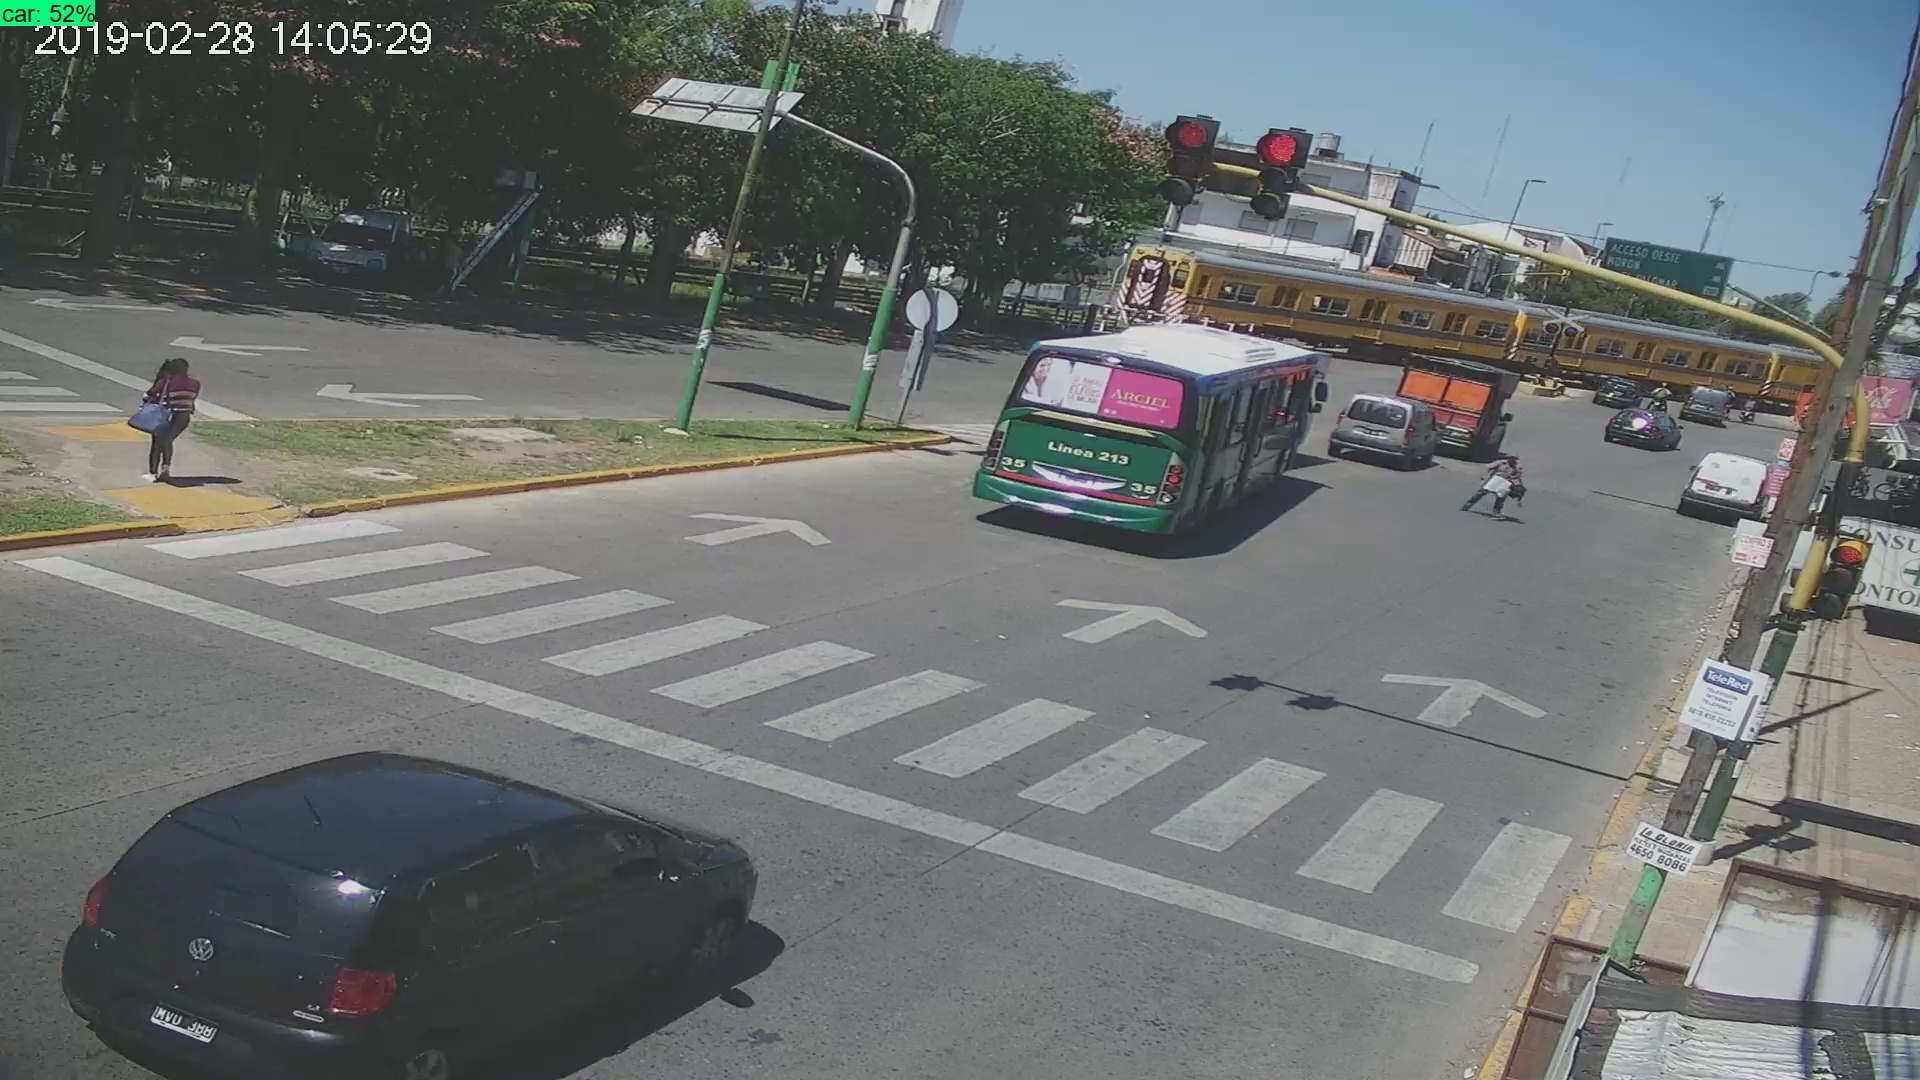bus: (967, 324, 1338, 555)
car: (51, 745, 781, 1080), (1327, 386, 1447, 473), (1680, 440, 1766, 527), (1609, 398, 1687, 462)
